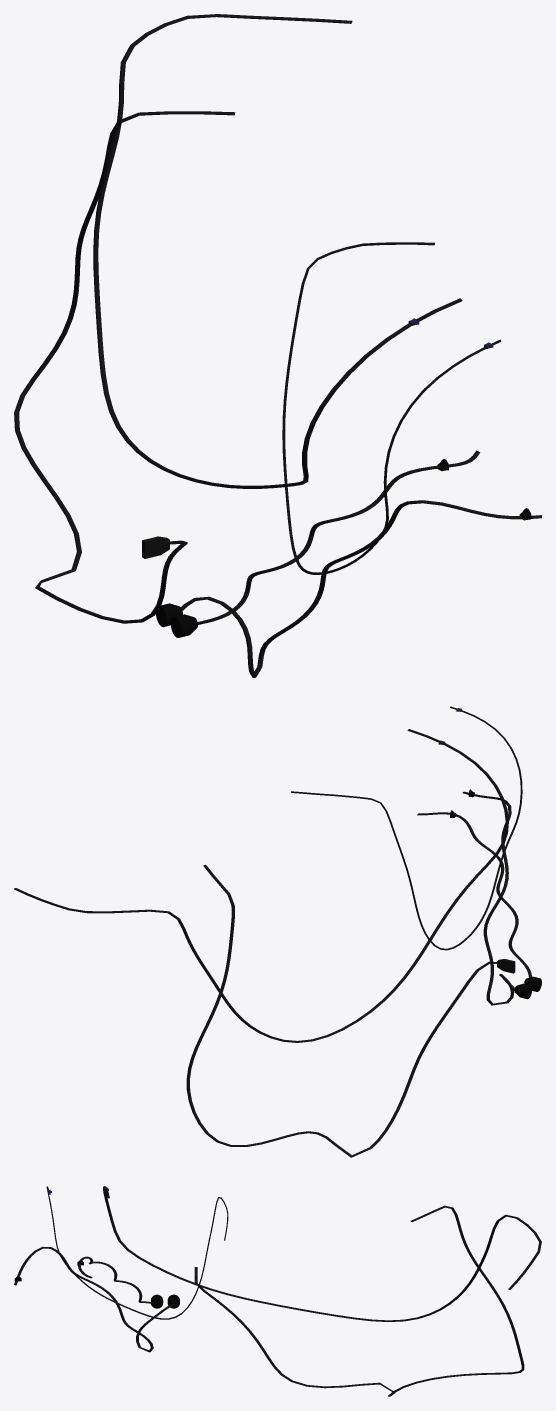
File: ScrivaniaLelloCaviePrese.gltf
3 views of the same model, one above another, from view 1: azimuth 30°, elevation 25°; view 2: azimuth 150°, elevation 25°; view 3: azimuth 270°, elevation 25° (orthographic). The views are drawn at different scales.
Parts seen in each view (by area): view 1: Lello Cavo Pc Dx, Lello Telefono Cavo, Lello Pc Sx Cavo, Lello Cavo Pc Sx Presa, Lello Cavo Pc DX presa; view 2: Lello Cavo Pc Dx, Lello Telefono Cavo, Lello Pc Sx Cavo, Lello Cavo Pc Sx Presa, Lello Cavo Pc DX presa; view 3: Lello Cavo Pc Dx, Lello Telefono Cavo, Lello Cavo Pc Sx Presa, Lello Pc Sx Cavo, Lello Cavo Pc DX presa.
Part boxes in pixels (x1,y1,x2,y2): Lello Cavo Pc Dx: [93, 14, 462, 488]; Lello Telefono Cavo: [14, 111, 235, 623]; Lello Pc Sx Cavo: [282, 242, 500, 574]; Lello Cavo Pc Sx Presa: [181, 500, 541, 677]; Lello Cavo Pc DX presa: [194, 450, 480, 625]; Lello Cavo Pc Dx: [14, 729, 508, 1042]; Lello Telefono Cavo: [186, 864, 496, 1157]; Lello Pc Sx Cavo: [291, 706, 522, 950]; Lello Cavo Pc Sx Presa: [462, 791, 514, 1005]; Lello Cavo Pc DX presa: [417, 812, 531, 977]; Lello Cavo Pc Dx: [103, 1186, 541, 1321]; Lello Telefono Cavo: [194, 1205, 524, 1396]; Lello Cavo Pc Sx Presa: [14, 1246, 176, 1352]; Lello Pc Sx Cavo: [46, 1186, 228, 1319]; Lello Cavo Pc DX presa: [78, 1256, 153, 1303].
Size of the model in its own units: 0.9431 by 0.7905 by 1.56.
Materials: 3 (1 with a texture image).
